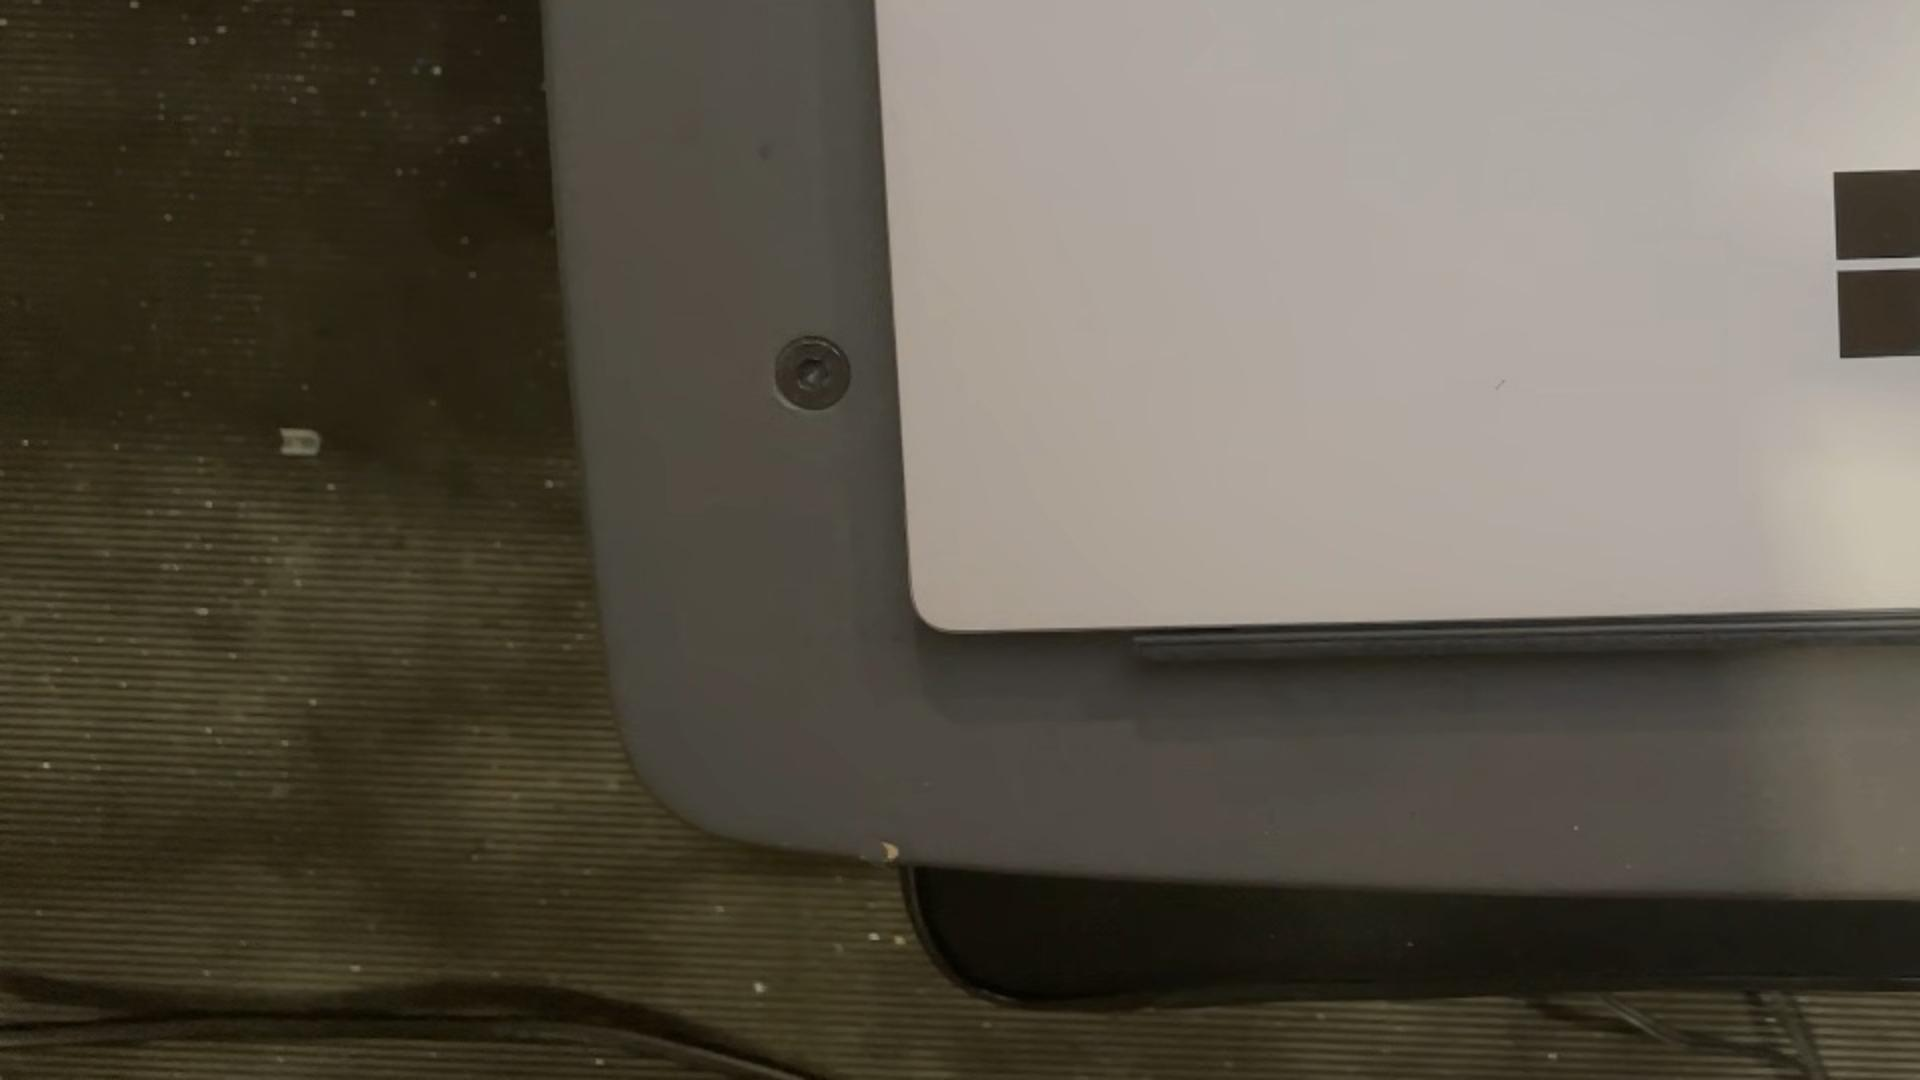scratches: (1491, 375, 1511, 394)
